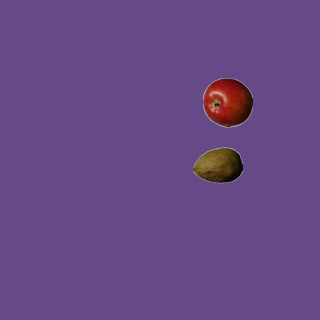Apple Braeburn: (202, 77, 252, 127)
Papaya: (192, 140, 242, 190)
